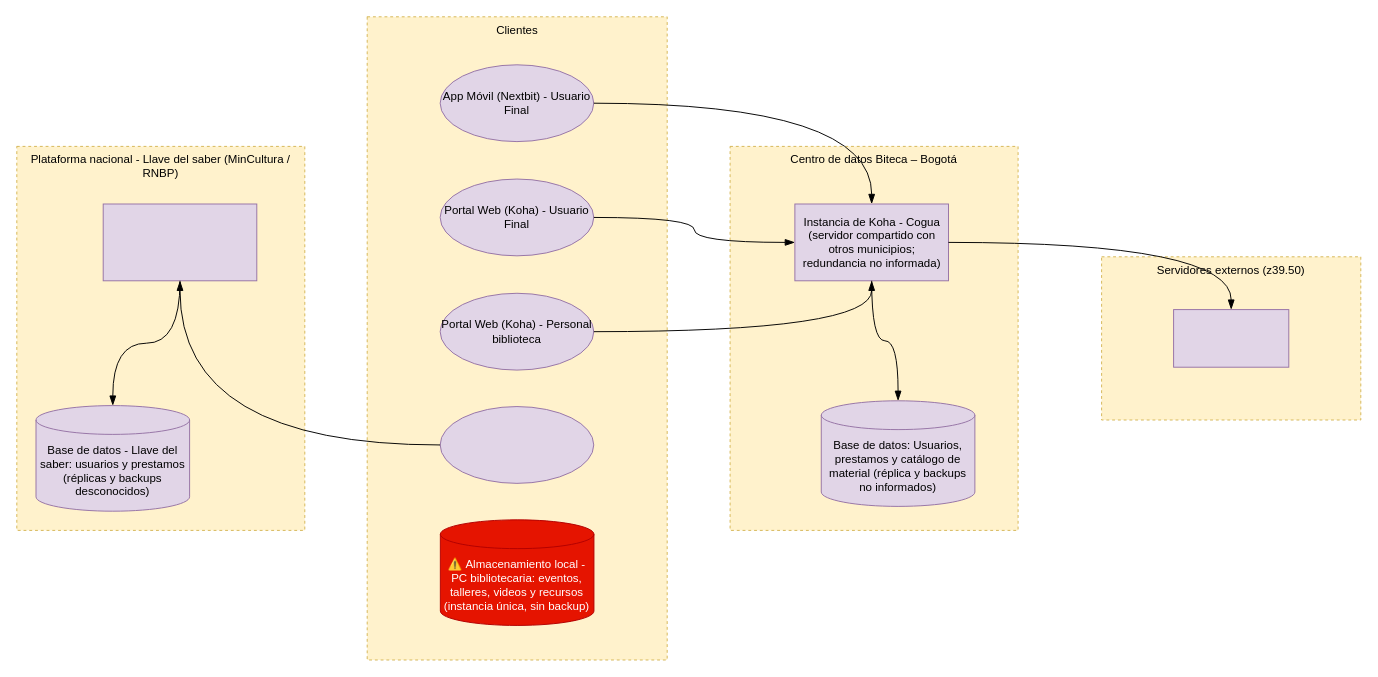
The diagram is 1378 pixels wide and 677 high, and some of its shapes have lost their labels. Each missing label, with the centre of its shape:
Aplicación web - Llave del saber (redundancia desconocida): [179,242]
Portal Web (Llave del saber) - Personal biblioteca: [516,444]
Servidores externos: z39.50: [1231,338]
